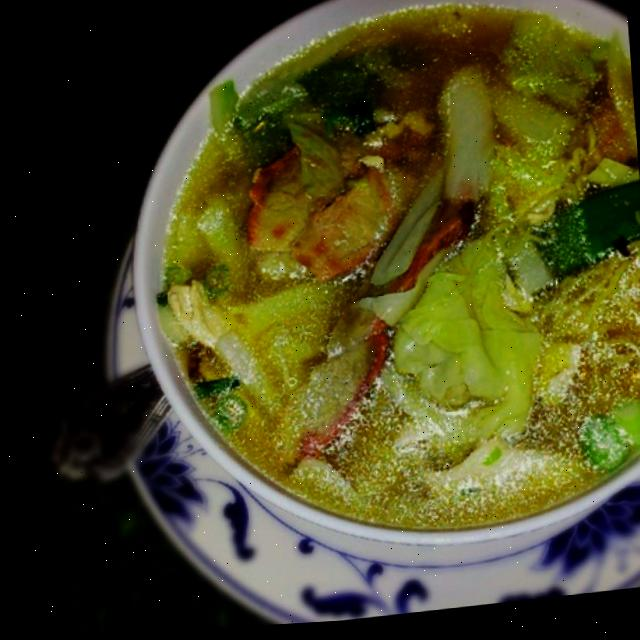汤锅炖物: (143, 0, 640, 573)
